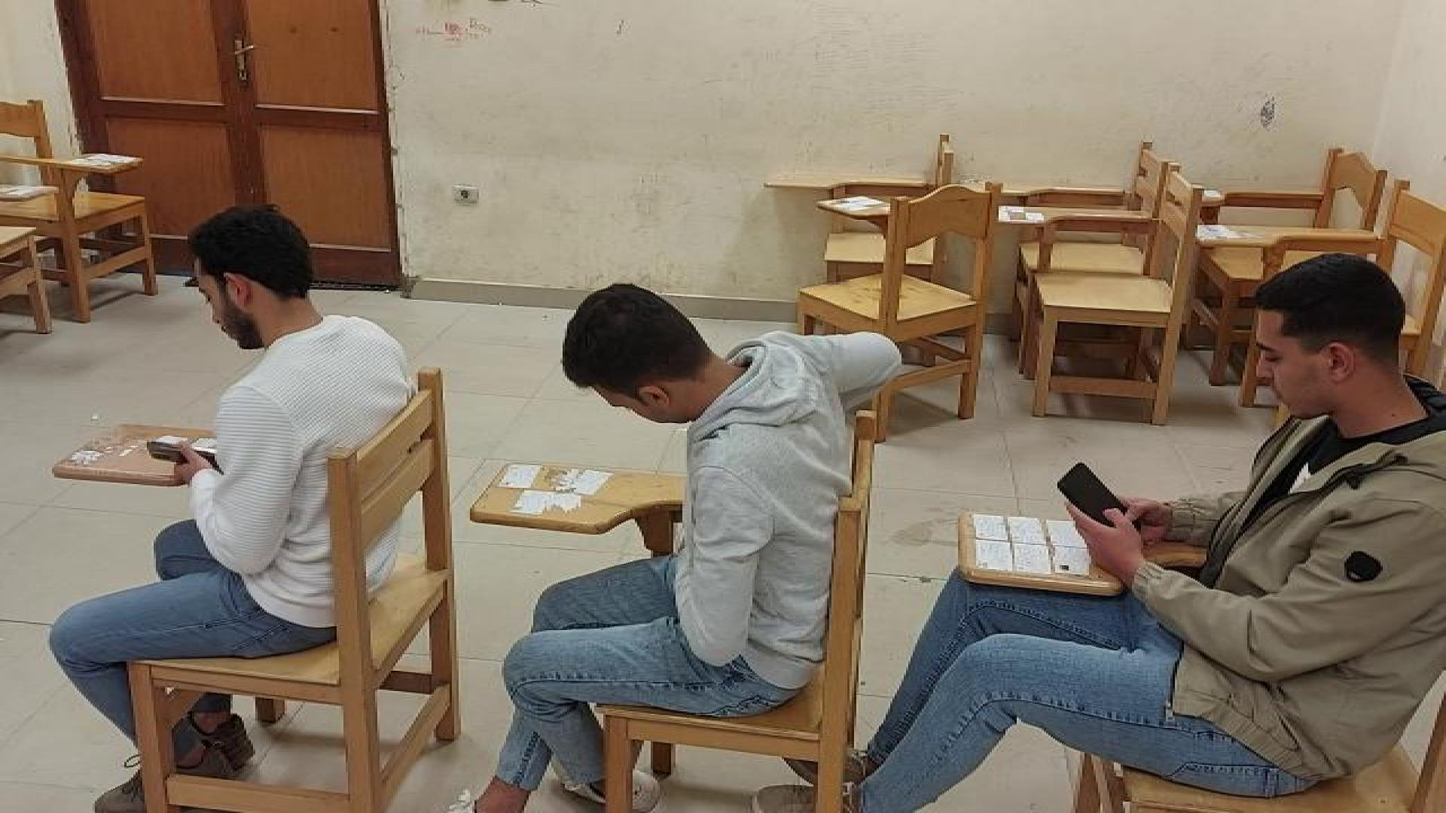phone: (1054, 461, 1142, 536), (145, 440, 217, 469)
